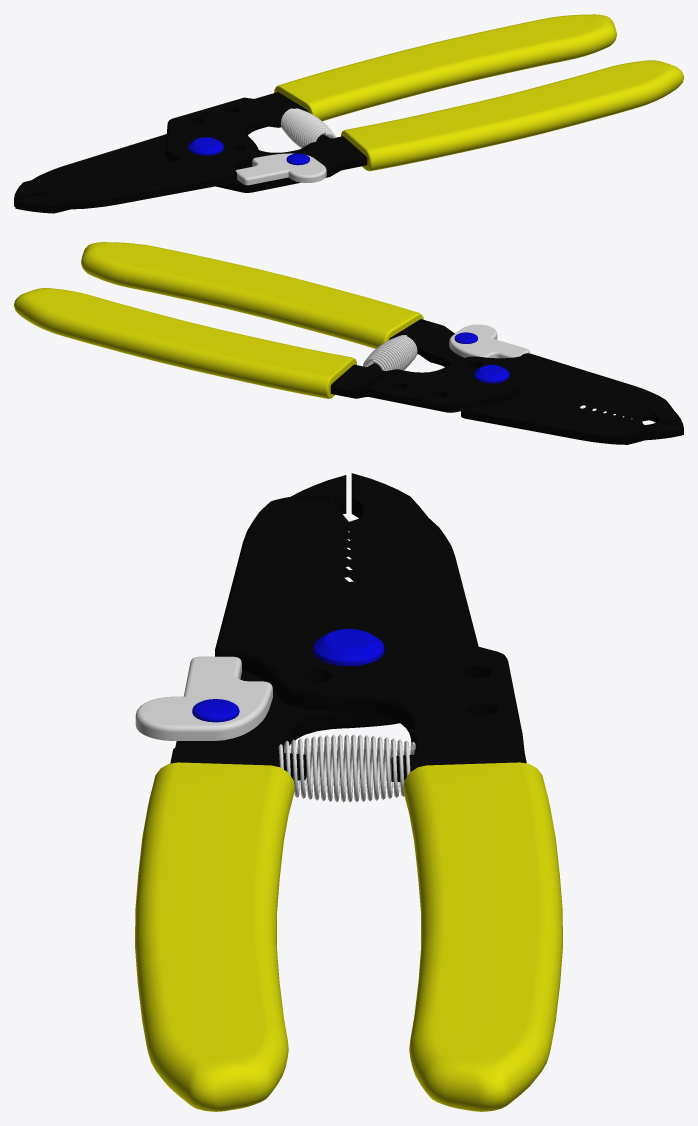
The model's file is Стриппер для медного кабеля.fbx.
3 renders of one model, top to bottom at view 1: azimuth 30°, elevation 25°; view 2: azimuth 150°, elevation 25°; view 3: azimuth 270°, elevation 25°, orthographic. The views are drawn at different scales.
Visible parts, largest first — view 1: Right_part, Left_part, Lock, Spring; view 2: Right_part, Left_part, Lock, Spring; view 3: Right_part, Left_part, Lock, Spring.
Boxes of the visible parts, box(x1,y1,x2,y2) form: Right_part: box(15, 14, 616, 213); Left_part: box(14, 60, 683, 206); Lock: box(235, 153, 326, 185); Spring: box(280, 108, 335, 148); Right_part: box(14, 288, 683, 435); Left_part: box(81, 242, 682, 444); Lock: box(449, 324, 529, 358); Spring: box(363, 335, 417, 370); Right_part: box(215, 475, 562, 1111); Left_part: box(135, 473, 478, 1111); Lock: box(135, 656, 272, 740); Spring: box(278, 734, 415, 802).
Size of the model in its own units: 16.03 by 0.7591 by 4.69.
